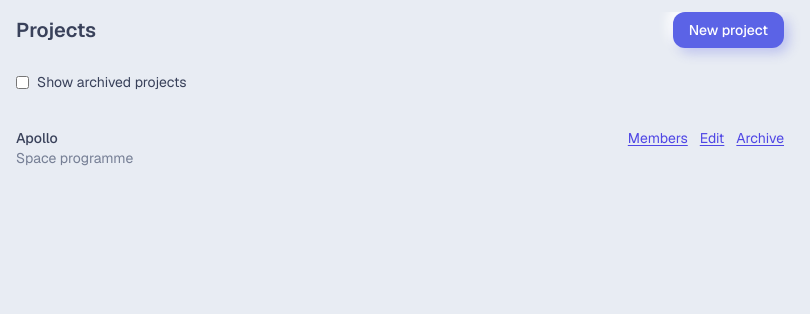
Test: ProjectsPage › assigns a member, updates the member list, and never offers an admin
Click the button "Members" at (658, 138), box [628, 128, 688, 148]
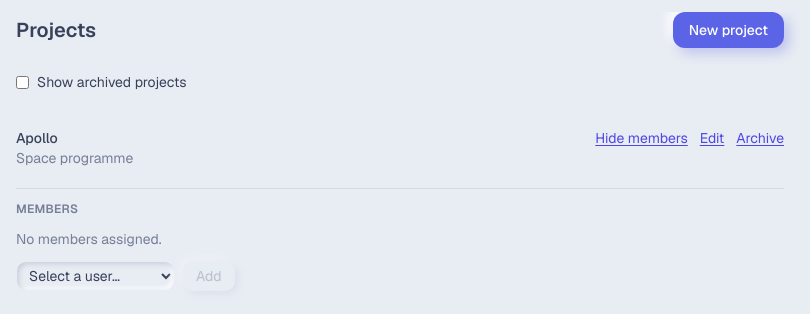
Expected: the text "No members assigned." is shown, [16, 230, 162, 248]
Select "Lin — MEMBER" in the dropdown named "Assign a member" at (96, 276), box [16, 261, 175, 291]
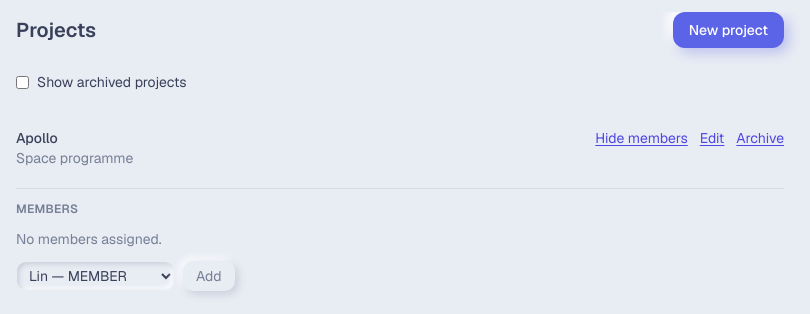
Click the button "Add" at (209, 276), box [183, 261, 235, 291]
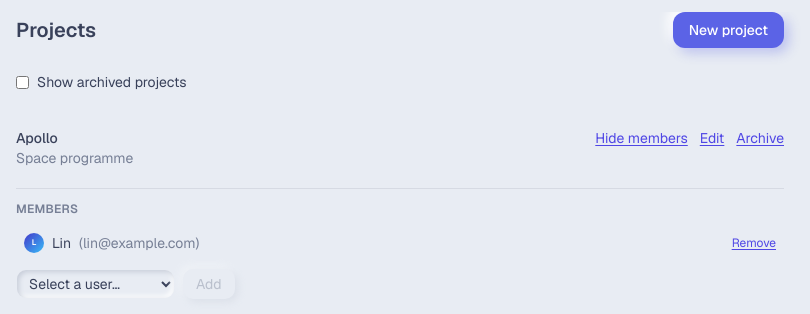
Expected: the text "(lin@example.com)" is shown, [79, 233, 199, 253]
